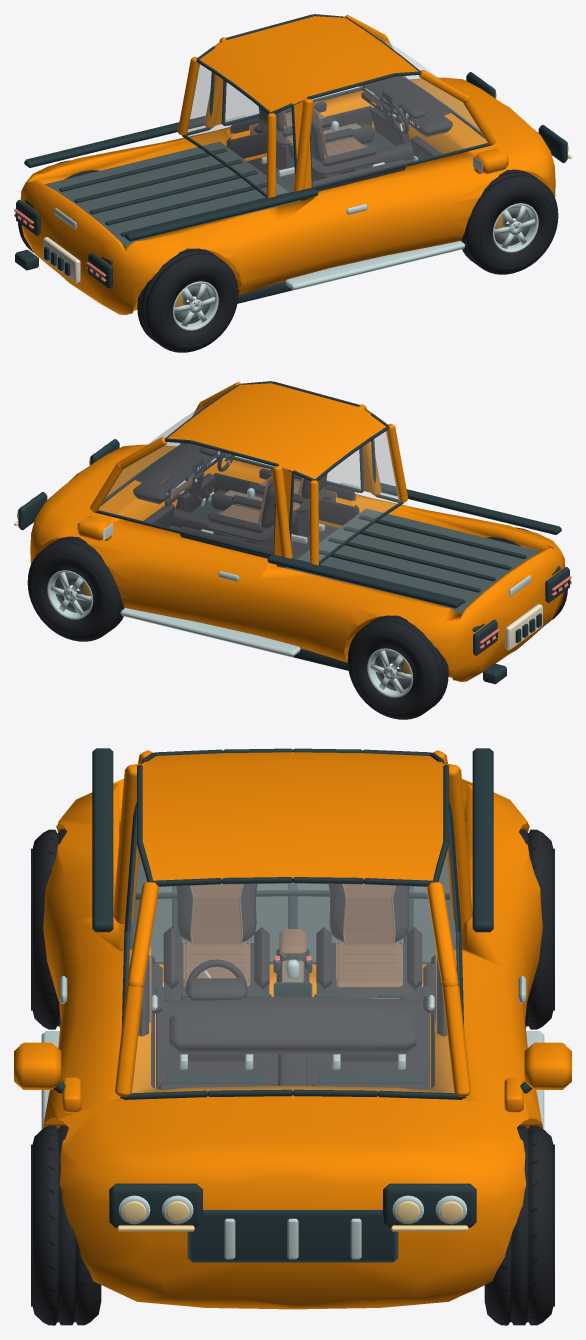
File: pickup.glb
3 renders of one model, top to bottom at view 1: azimuth 30°, elevation 25°; view 2: azimuth 150°, elevation 25°; view 3: azimuth 270°, elevation 25°, orthographic. The views are drawn at different scales.
Visible parts, largest first — view 1: Paint pickup, Automotive glass.002, Rolling wheels.002, Tyre rubber.002, Cabin upholstery.002, Pickup bed, Wheel hubs.002, Tailored cabin leather.002, Warm white trim.002; view 2: Paint pickup, Automotive glass.002, Rolling wheels.002, Tyre rubber.002, Cabin upholstery.002, Pickup bed, Wheel hubs.002, Tailored cabin leather.002, Warm white trim.002; view 3: Paint pickup, Automotive glass.002, Tyre rubber.002, Cabin upholstery.002, Rolling wheels.002, Tailored cabin leather.002, Pickup bed, Wheel hubs.002, Headlamp.002, Seat stitching and console.002.
Part boxes in pixels (x1,y1,x2,y2): Paint pickup: (20, 15, 555, 314); Automotive glass.002: (185, 32, 486, 195); Rolling wheels.002: (18, 160, 558, 352); Tyre rubber.002: (15, 14, 567, 304); Cabin upholstery.002: (226, 76, 455, 200); Pickup bed: (44, 141, 300, 247); Wheel hubs.002: (54, 77, 568, 290); Tailored cabin leather.002: (249, 89, 385, 158); Warm white trim.002: (43, 113, 407, 283); Paint pickup: (30, 382, 565, 681); Automotive glass.002: (99, 399, 400, 562); Rolling wheels.002: (27, 527, 567, 719); Tyre rubber.002: (18, 381, 570, 684); Cabin upholstery.002: (130, 443, 359, 567); Pickup bed: (285, 508, 541, 614); Wheel hubs.002: (17, 444, 531, 657); Tailored cabin leather.002: (170, 467, 336, 524); Warm white trim.002: (219, 452, 542, 650); Paint pickup: (14, 750, 571, 1309); Automotive glass.002: (126, 812, 459, 1092); Tyre rubber.002: (53, 748, 532, 1262); Cabin upholstery.002: (138, 884, 447, 1089); Rolling wheels.002: (31, 829, 554, 1325); Tailored cabin leather.002: (149, 879, 436, 1032); Pickup bed: (129, 858, 456, 964); Wheel hubs.002: (41, 959, 544, 1259); Headlamp.002: (117, 1201, 468, 1231); Seat stitching and console.002: (183, 884, 402, 998).
Size of the model in its own units: 1.97 by 0.8183 by 1.06.
